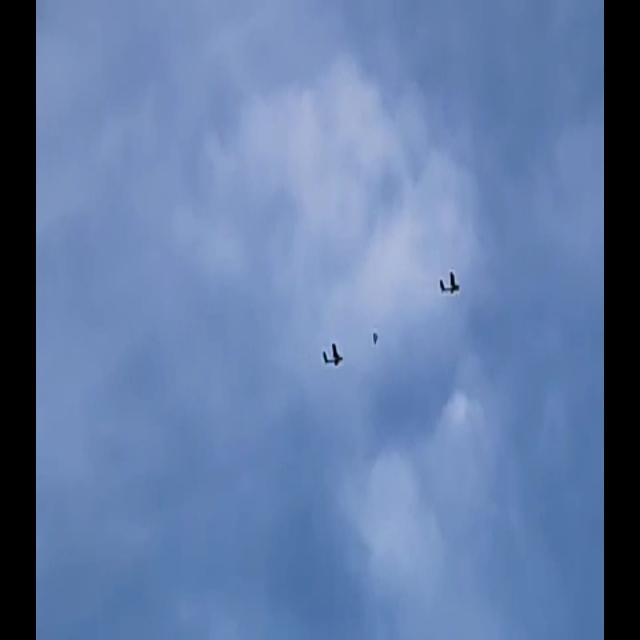iha: (322, 341, 344, 369), (439, 268, 460, 296), (372, 330, 378, 346)
